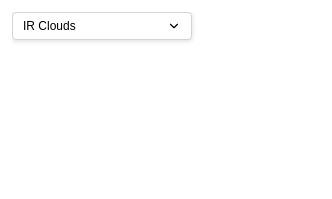
Scenario: MultiSelectComposite › renders availability icons for day and night composites
Click the button at (102, 26), box [12, 12, 192, 40]
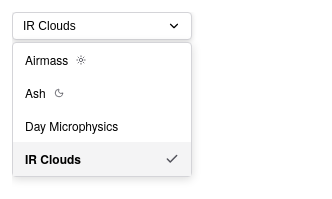
Expected: the icon with class "lucide-sun" is shown, [76, 54, 86, 64]
Expected: the icon with class "lucide-moon" is shown, [54, 88, 64, 98]
